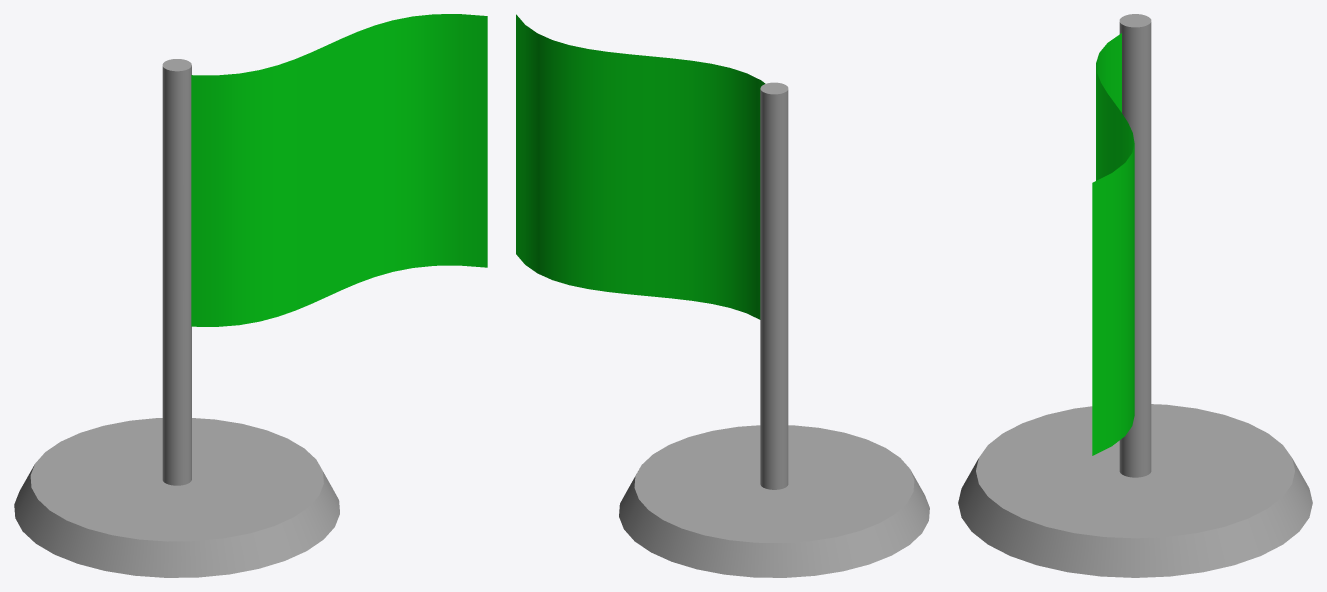
Rendered from EndFlag.fbx.
The picture shows the model from 3 angles, left to right: view 1: azimuth 30°, elevation 25°; view 2: azimuth 150°, elevation 25°; view 3: azimuth 270°, elevation 25°; orthographic projection. The views are drawn at different scales.
Visible parts, largest first — view 1: SurfPatch, Cylinder; view 2: SurfPatch, Cylinder; view 3: Cylinder, SurfPatch.
Part boxes in pixels (bbox=[...]): SurfPatch: bbox=[191, 14, 487, 326]; Cylinder: bbox=[14, 59, 339, 577]; SurfPatch: bbox=[516, 14, 765, 319]; Cylinder: bbox=[619, 82, 929, 577]; Cylinder: bbox=[958, 14, 1312, 577]; SurfPatch: bbox=[1092, 33, 1134, 455].
Bounding box in the file's own units: 153 × 150 × 100.
